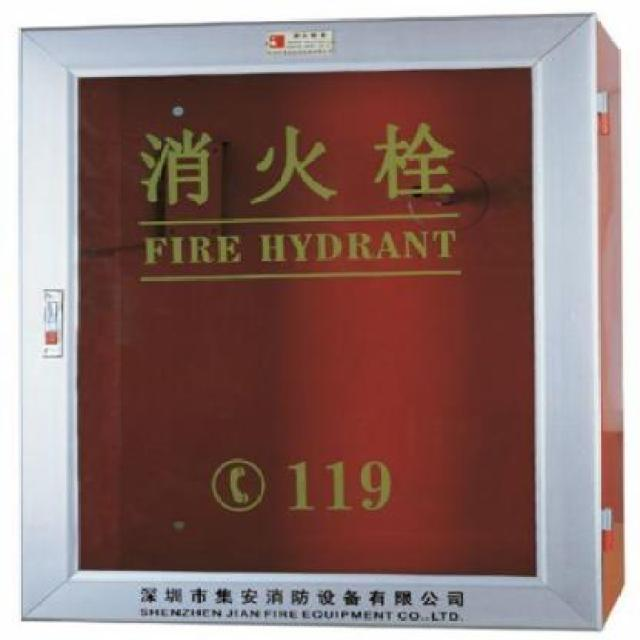firehydrant: (11, 8, 629, 637)
